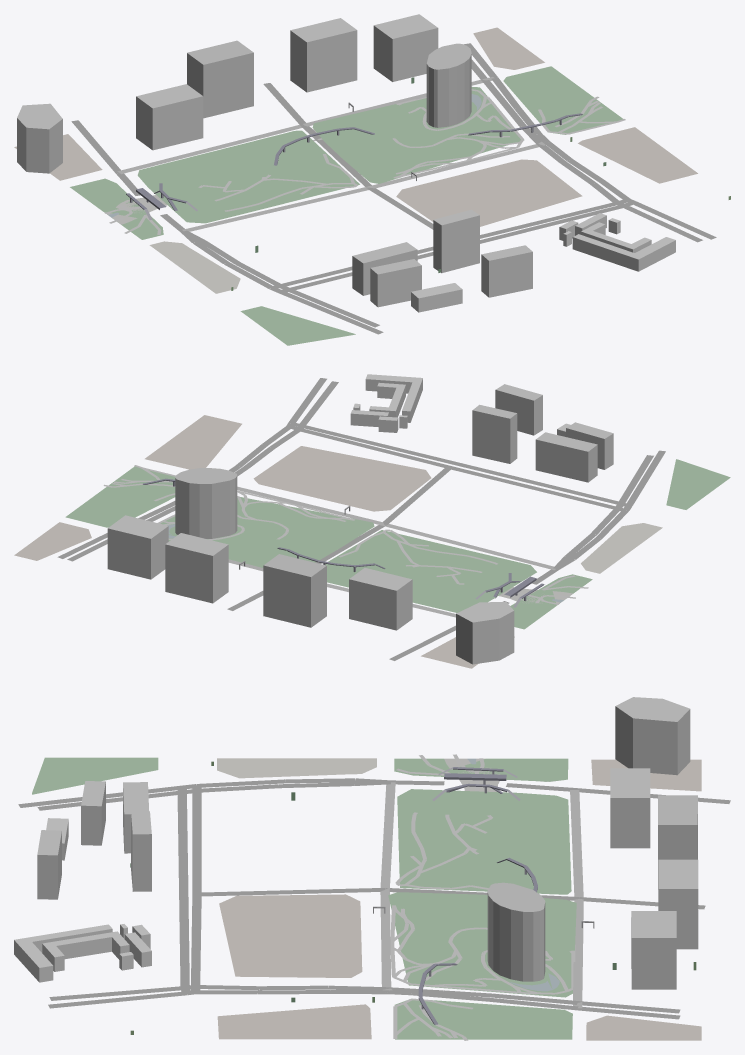
3 views of the same model, one above another, from view 1: azimuth 30°, elevation 25°; view 2: azimuth 150°, elevation 25°; view 3: azimuth 270°, elevation 25° (orthographic). The views are drawn at different scales.
Size of the model in its own units: 520 by 59.53 by 535.
